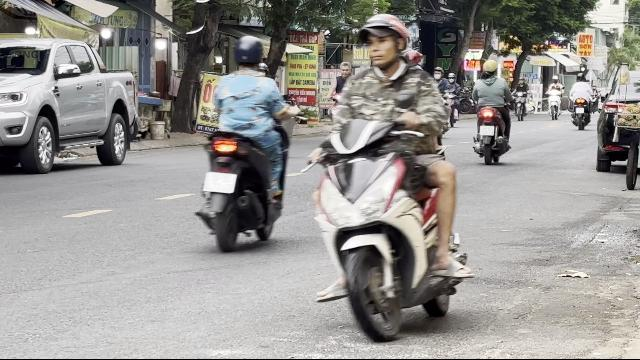helmet: (356, 12, 410, 70), (232, 34, 266, 70)
licenseplate: (204, 172, 236, 192)
motorcyclist: (302, 7, 472, 339), (195, 33, 297, 251)
